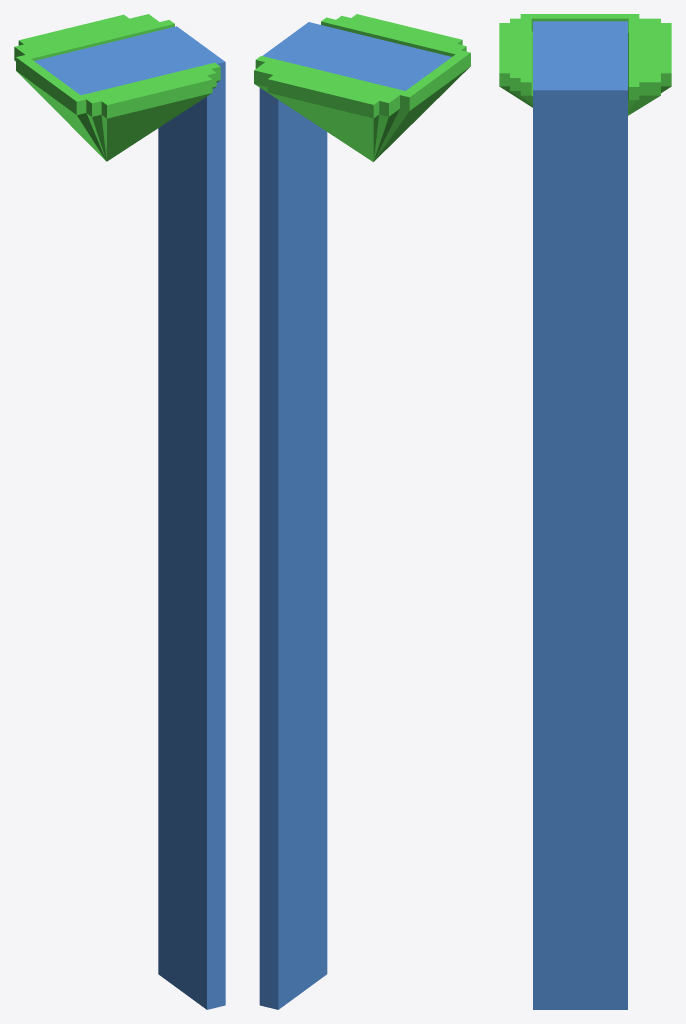
Rendered from Cascata_MarinaPardalP01.fbx.
3 views of the same model, side by side, from view 1: azimuth 30°, elevation 25°; view 2: azimuth 150°, elevation 25°; view 3: azimuth 270°, elevation 25° (orthographic). The views are drawn at different scales.
Visible parts, largest first — view 1: Plane.008, Plane.007; view 2: Plane.008, Plane.007; view 3: Plane.008, Plane.007.
Part boxes in pixels (x1,y1,x2,y2): Plane.008: (34, 26, 225, 1009); Plane.007: (14, 14, 220, 161); Plane.008: (259, 22, 451, 1009); Plane.007: (254, 14, 470, 161); Plane.008: (533, 21, 627, 1009); Plane.007: (499, 14, 671, 115).
Bounding box in the file's own units: 1916 × 11171 × 1895.
